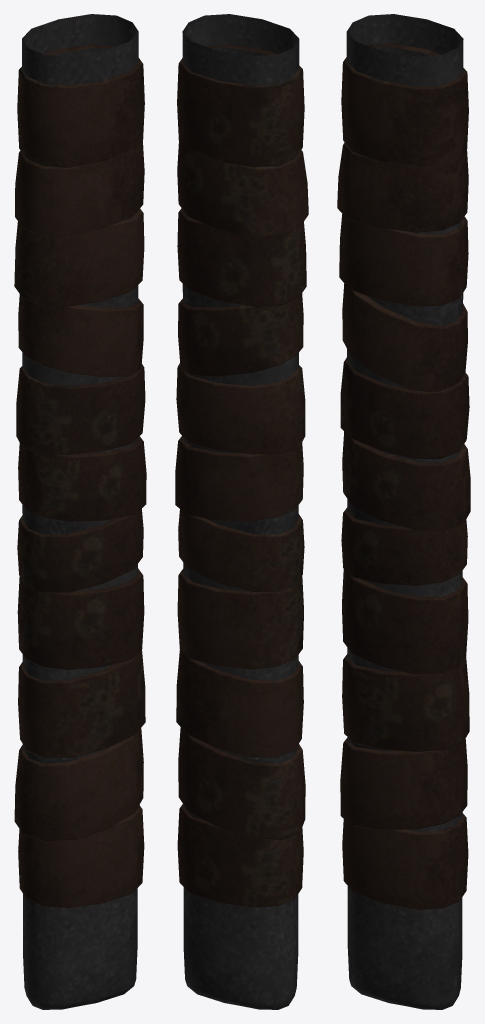
File: wm_isengard_berserker_sword_a01_handle.fbx
The picture shows the model from 3 angles, left to right: view 1: azimuth 30°, elevation 25°; view 2: azimuth 150°, elevation 25°; view 3: azimuth 330°, elevation 25°; orthographic projection.
Visible parts, largest first — view 1: wm_isengard_berserker_sword_a01_handle; view 2: wm_isengard_berserker_sword_a01_handle; view 3: wm_isengard_berserker_sword_a01_handle.
Part boxes in pixels (<box>): wm_isengard_berserker_sword_a01_handle: <box>14,14,146,1009</box>; wm_isengard_berserker_sword_a01_handle: <box>175,14,308,1009</box>; wm_isengard_berserker_sword_a01_handle: <box>337,14,470,1009</box>.
Size of the model in its own units: 0.0589 by 0.0443 by 0.4578.
Materials: 1 (1 with a texture image).
